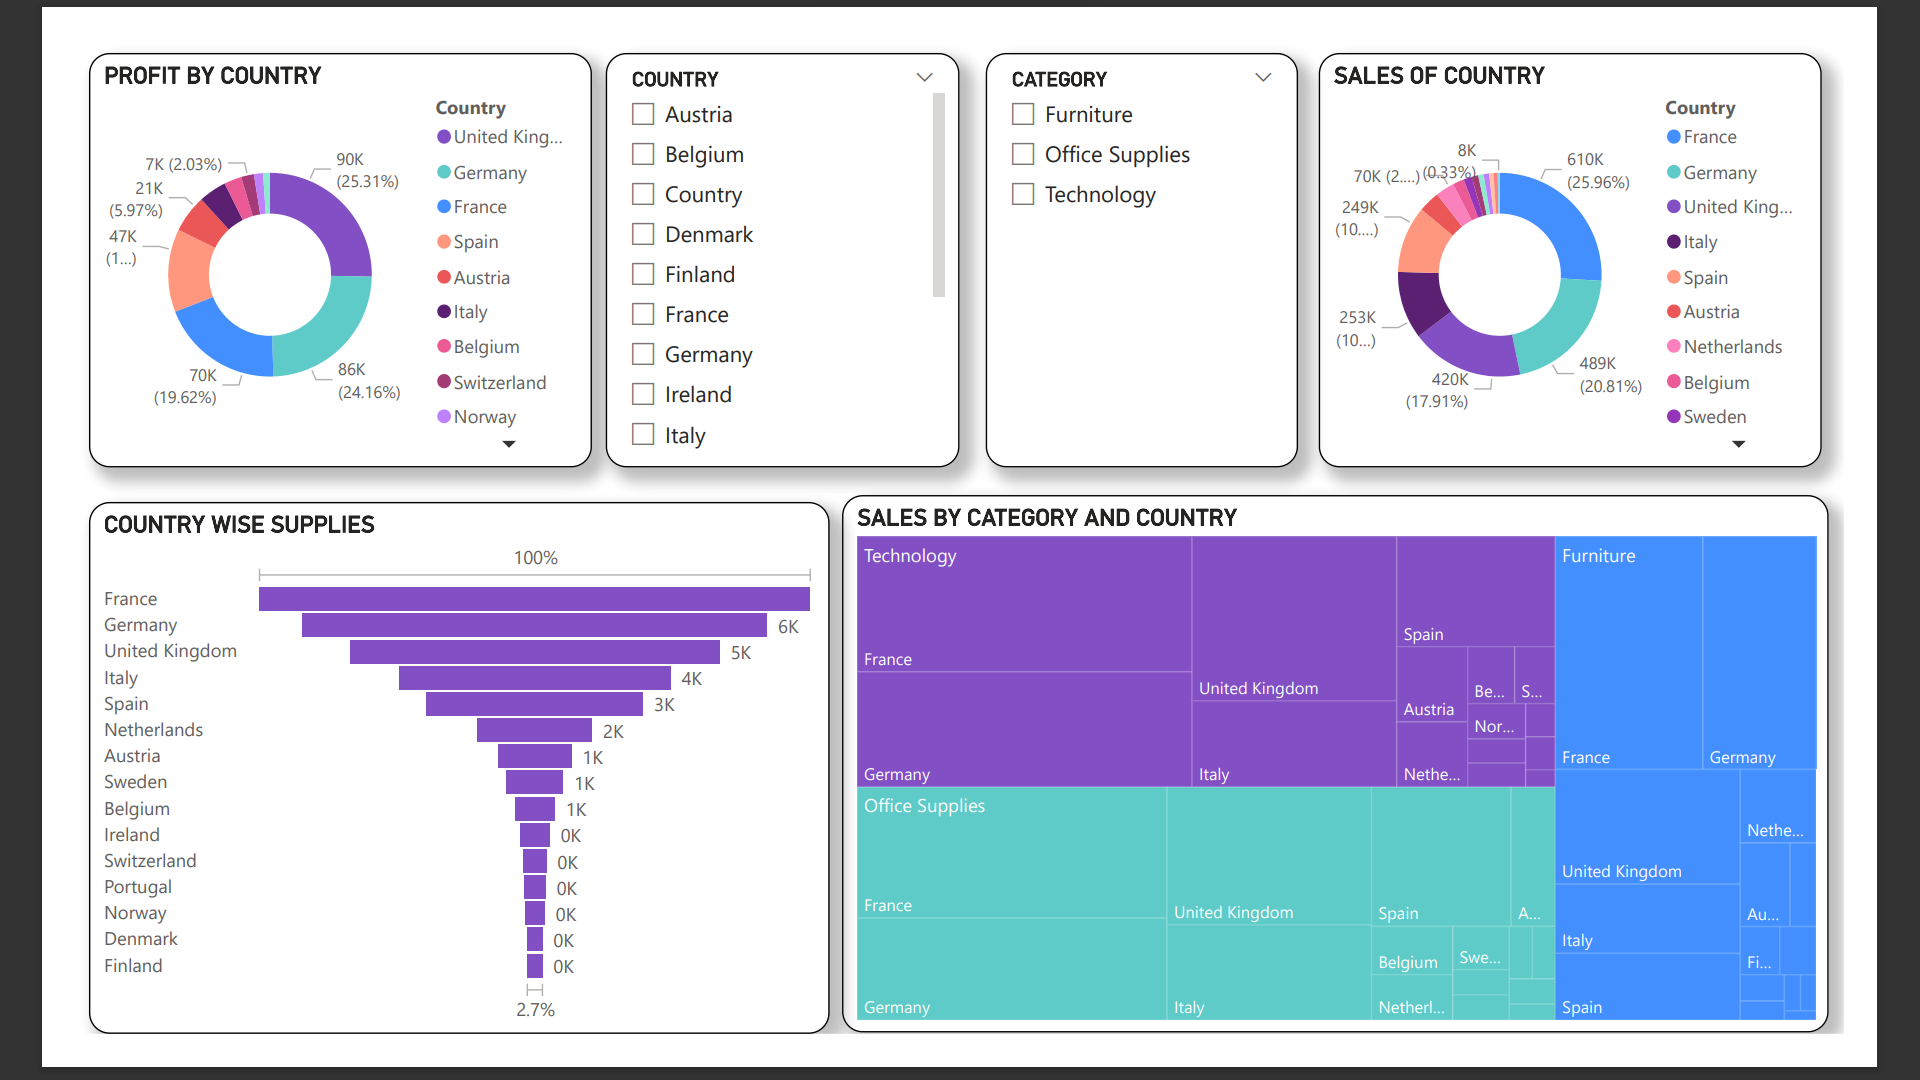

The dashboard page shown, as its layout file describes it:
{"tool":"powerbi","page":{"name":"Page 1","canvas":[1280,720],"ordinal":0},"visuals":[{"type":"donutChart","title":"PROFIT BY COUNTRY","fields":{"Category":["list_of_orders.Country"],"Y":["Sum(order_brakdown.Profit)","Sum(order_brakdown.Profit)"]},"box":[10.5,10.5,364,300],"z":0},{"type":"slicer","title":"COUNTY","fields":{"Values":["list_of_orders.Country"]},"box":[384,10,256,300],"z":1000},{"type":"donutChart","title":"SALES OF COUNTRY","fields":{"Category":["list_of_orders.Country"],"Y":["Sum(order_brakdown.Sales)"]},"box":[900,10.5,364,299.8],"z":2000},{"type":"slicer","fields":{"Values":["order_brakdown.Category"]},"box":[659,10,226,300],"z":3000},{"type":"treemap","title":"SALES BY CATEGORY AND COUNTRY","fields":{"Values":["Sum(order_brakdown.Sales)"],"Group":["order_brakdown.Category"],"Details":["list_of_orders.Country"]},"box":[555.4,330,714,389],"z":4000},{"type":"funnel","title":"COUNTRY WISE SUPPLIES","fields":{"Category":["list_of_orders.Country"],"Y":["Sum(order_brakdown.Quantity)"]},"box":[10.5,334.6,535.7,385.8],"z":5000}]}

Visuals, with their boxes in screenshot pixels (x1, y1, x2, y2), scaled from the page's 1280x720 canvas onto the 1920x1080 screenshot:
"PROFIT BY COUNTRY" donutChart: detection(16, 16, 562, 466)
"COUNTY" slicer: detection(576, 15, 960, 465)
"SALES OF COUNTRY" donutChart: detection(1350, 16, 1896, 465)
slicer - order_brakdown.Category: detection(988, 15, 1328, 465)
"SALES BY CATEGORY AND COUNTRY" treemap: detection(833, 495, 1904, 1078)
"COUNTRY WISE SUPPLIES" funnel: detection(16, 502, 819, 1079)
